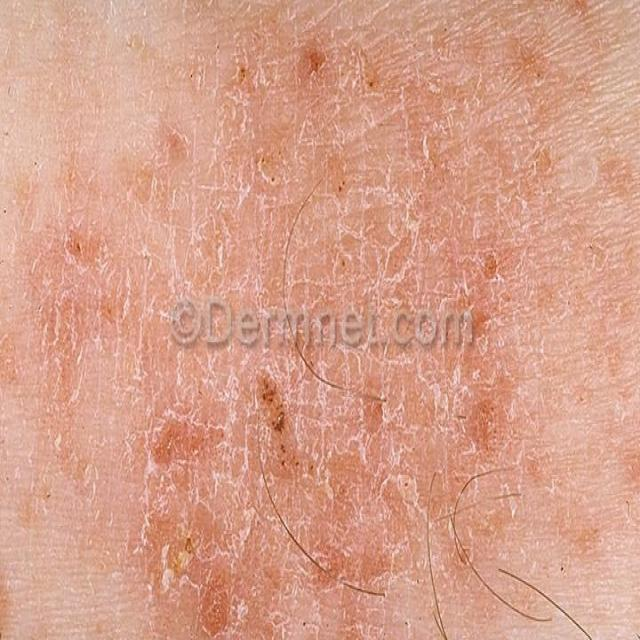Eczema: (36, 18, 558, 624)
